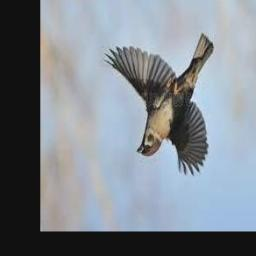Sparrow: (103, 33, 213, 178)
